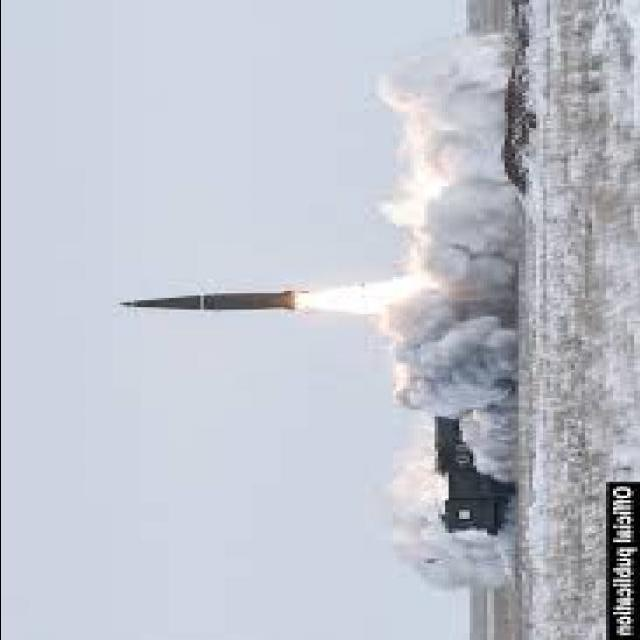missile: (112, 279, 304, 319)
